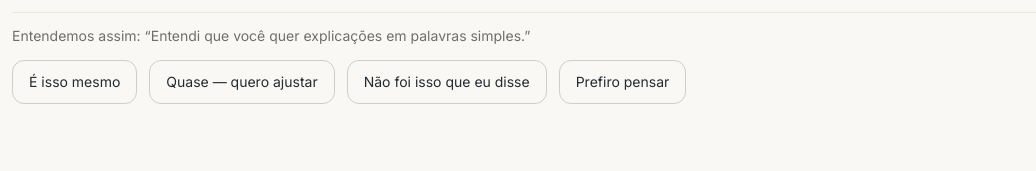
Test: C8/C9 · cada retorno da RPC tem a própria frase › PERFIL_JA_RECONHECIDO chega à tela com a frase específica, nunca a genérica
Click the button "É isso mesmo".
click(75, 82)  # box [12,60,137,104]
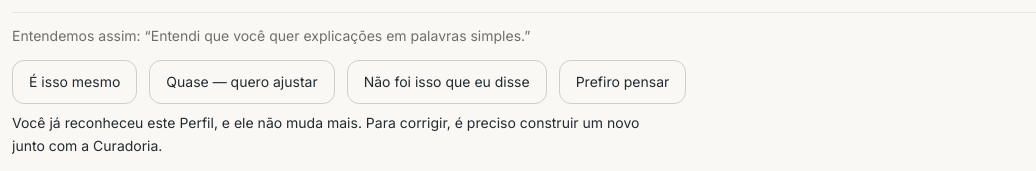
Check: the message shows "Você já reconheceu este Perfil, e ele não muda mais. Para corrigir, é preciso construir um novo junto com a Curadoria.", box [12,114,639,154]
